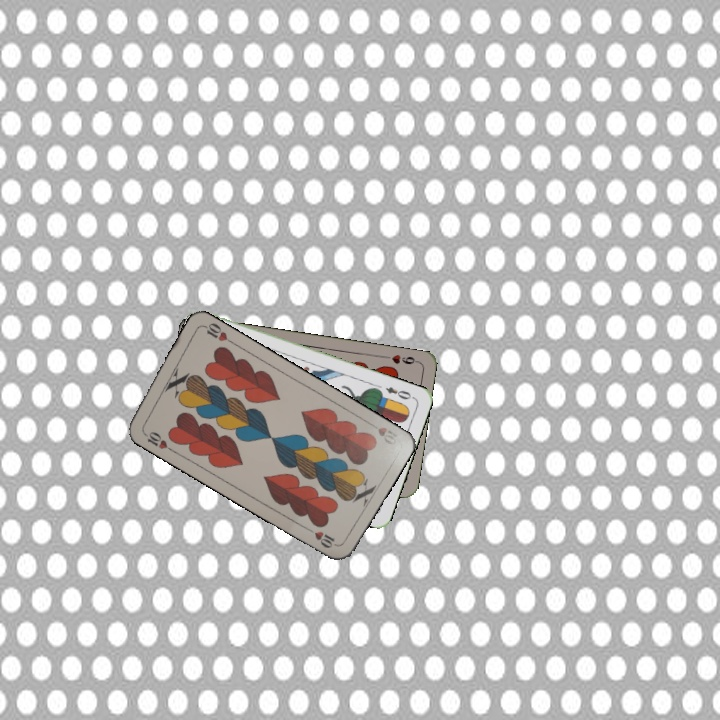EO: (381, 382, 417, 402)
H10: (364, 418, 401, 448), (139, 427, 175, 454)
H9: (380, 350, 421, 367)
